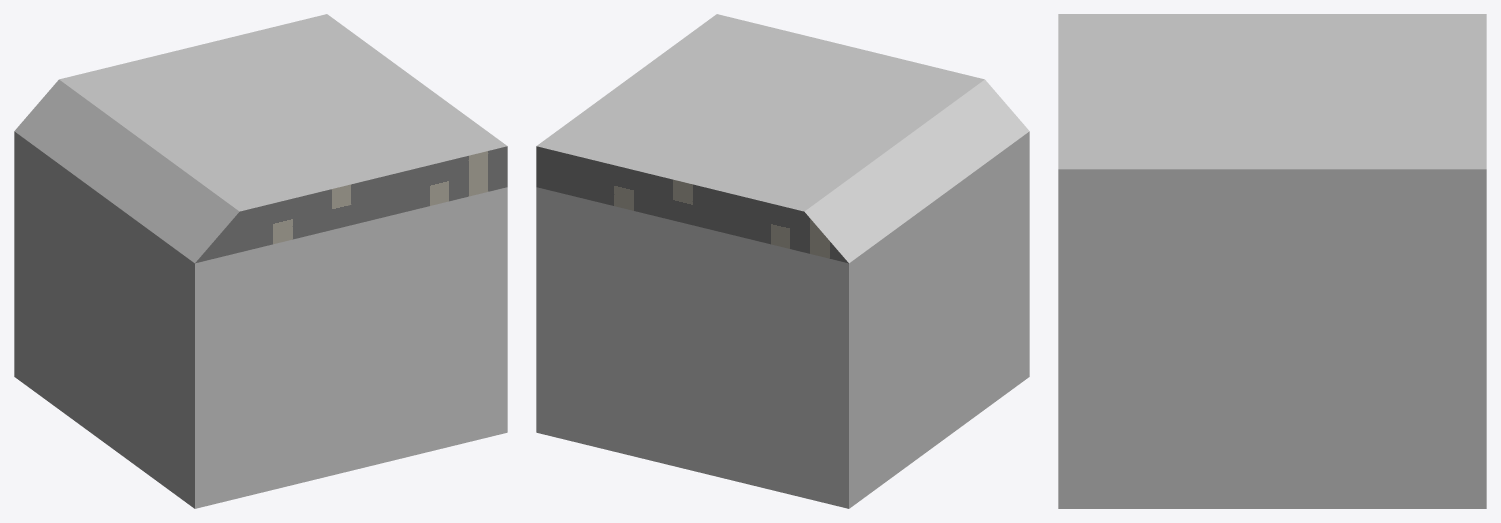
File: slope87_5_shave12_base12.obj
The picture shows the model from 3 angles, left to right: view 1: azimuth 30°, elevation 25°; view 2: azimuth 150°, elevation 25°; view 3: azimuth 270°, elevation 25°; orthographic projection. The views are drawn at different scales.
Bounding box in the file's own units: 1 × 0.875 × 1.
